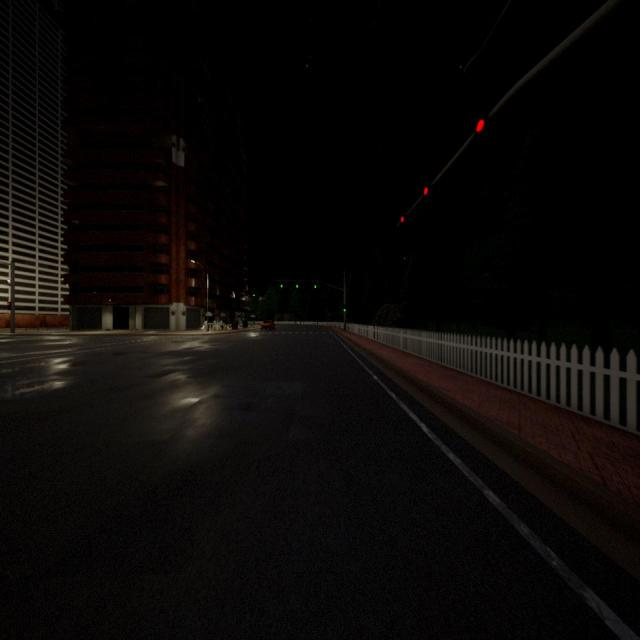Vehicle: (260, 320, 276, 331)
traffic_light: (475, 118, 485, 133), (423, 186, 429, 196), (400, 215, 404, 223), (8, 302, 12, 310), (344, 304, 346, 312), (280, 284, 283, 288), (314, 284, 317, 288), (296, 284, 298, 289)
